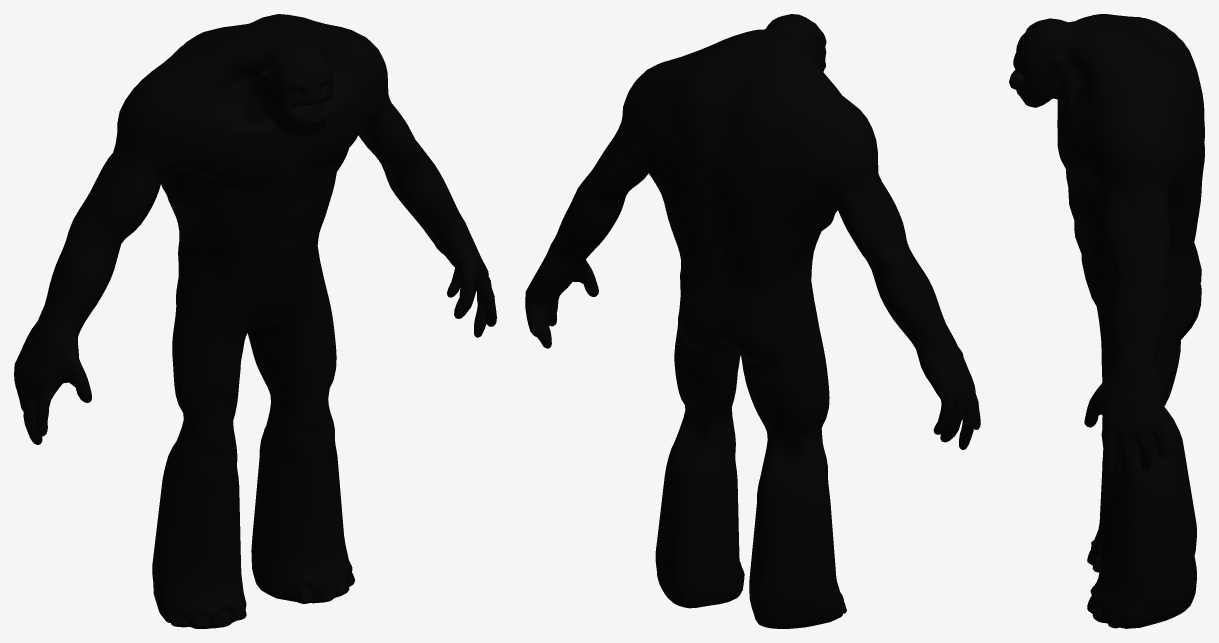
The model's file is Giant_Unity Test.FBX.
3 views of the same model, side by side, from view 1: azimuth 30°, elevation 25°; view 2: azimuth 150°, elevation 25°; view 3: azimuth 270°, elevation 25° (orthographic). The views are drawn at different scales.
Parts seen in each view (by area): view 1: Giant_Body; view 2: Giant_Body; view 3: Giant_Body.
Part boxes in pixels (x1,y1,x2,y2): Giant_Body: (14,14,496,628); Giant_Body: (525,14,980,628); Giant_Body: (1009,14,1204,628).
Size of the model in its own units: 125 by 152 by 47.44.
Materials: 1 (1 with a texture image).
